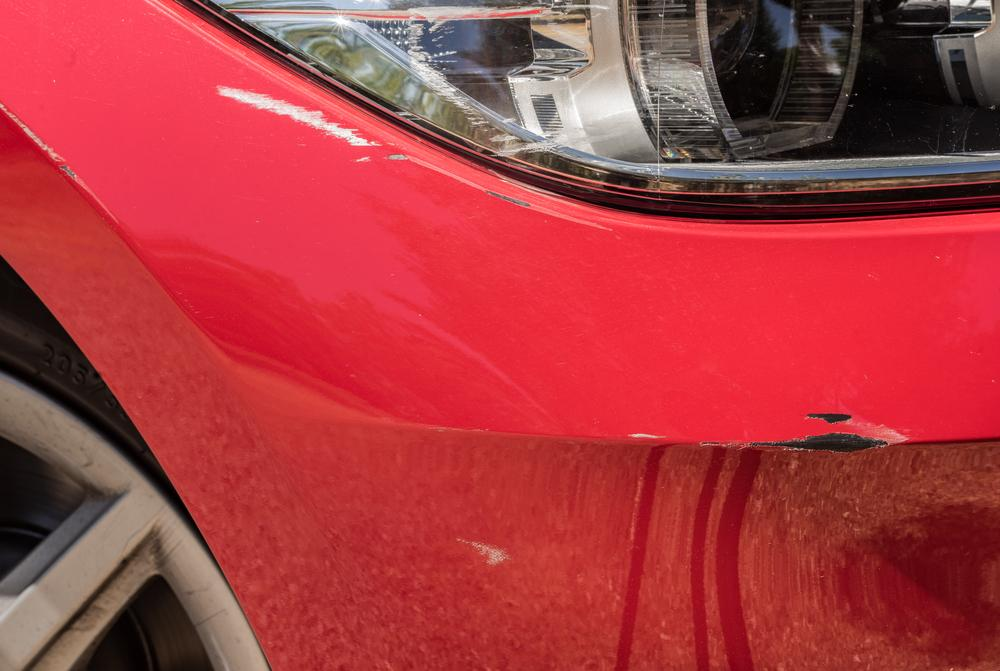scratch: (211, 84, 548, 221), (0, 94, 124, 231), (627, 407, 910, 459)
